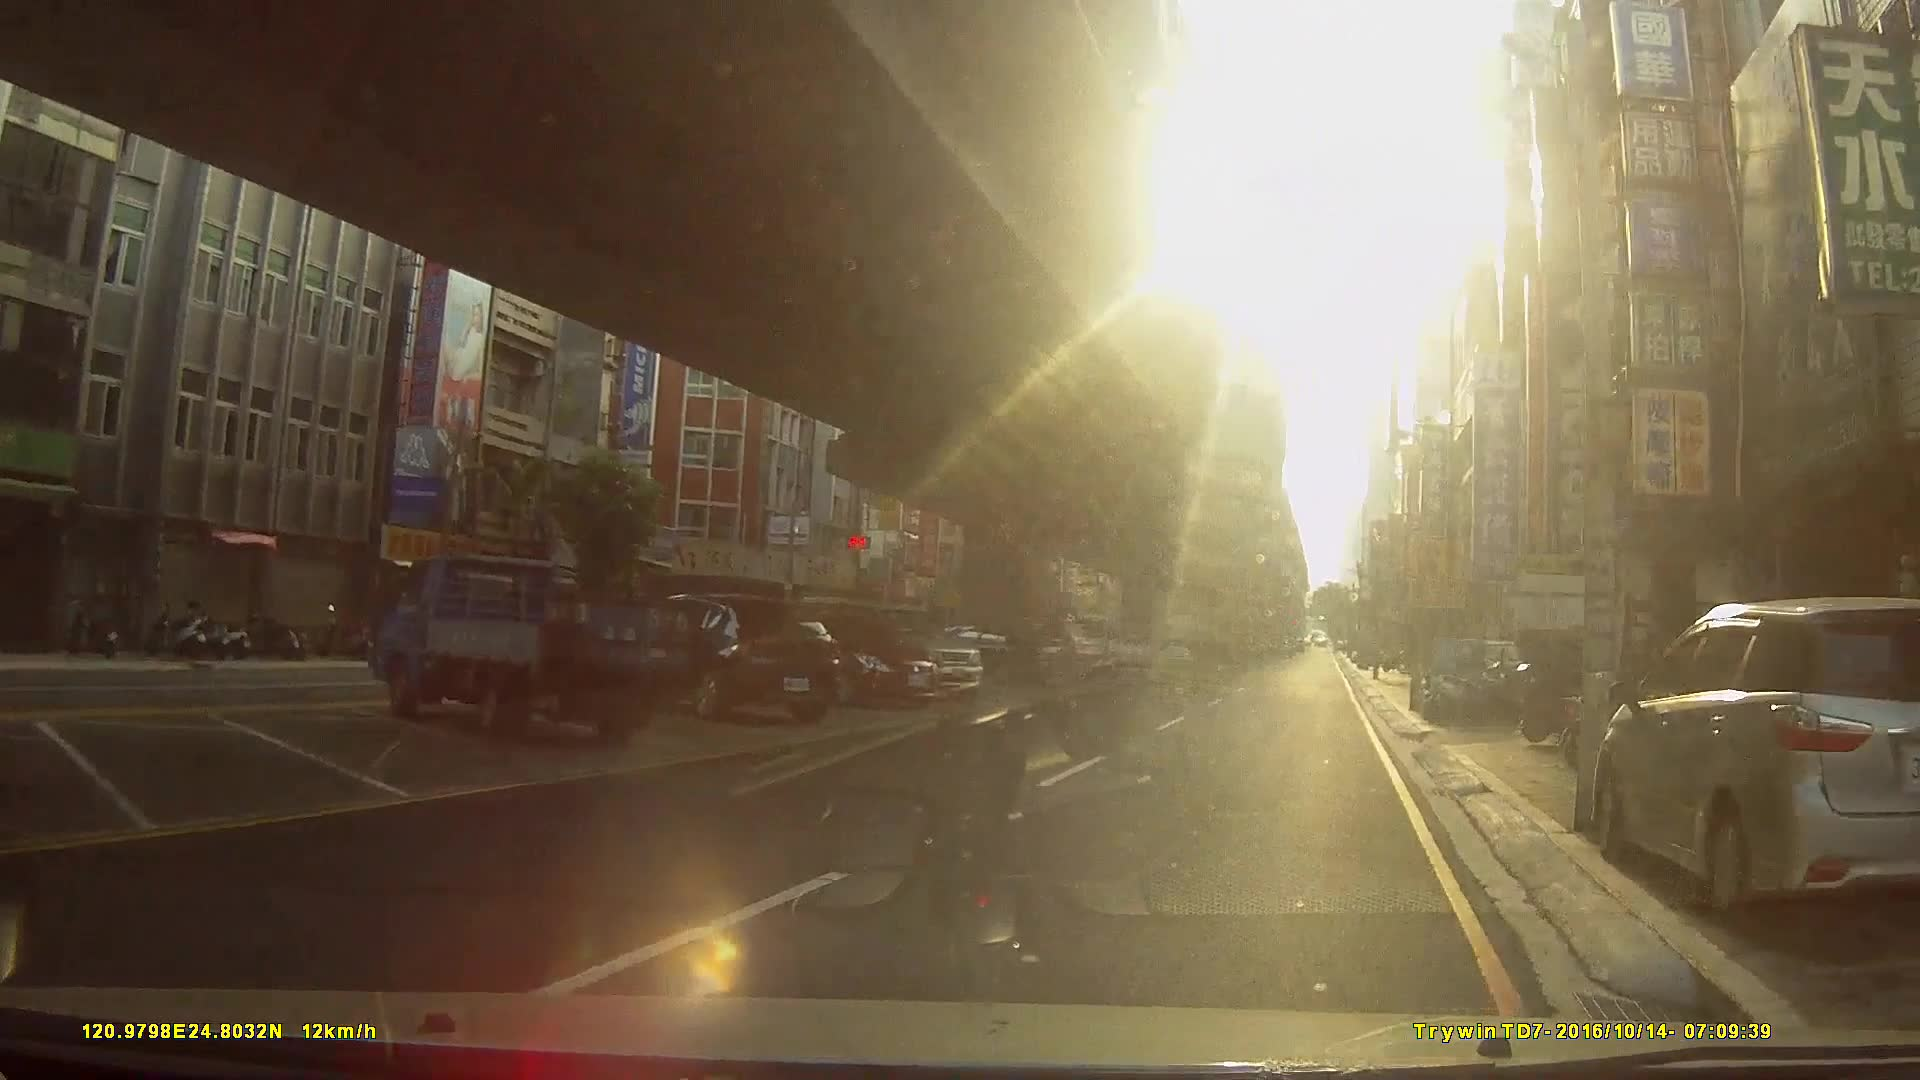vehicle: (1590, 593, 1919, 923), (365, 551, 699, 742), (632, 589, 839, 721), (760, 605, 936, 704), (913, 622, 1062, 683)
